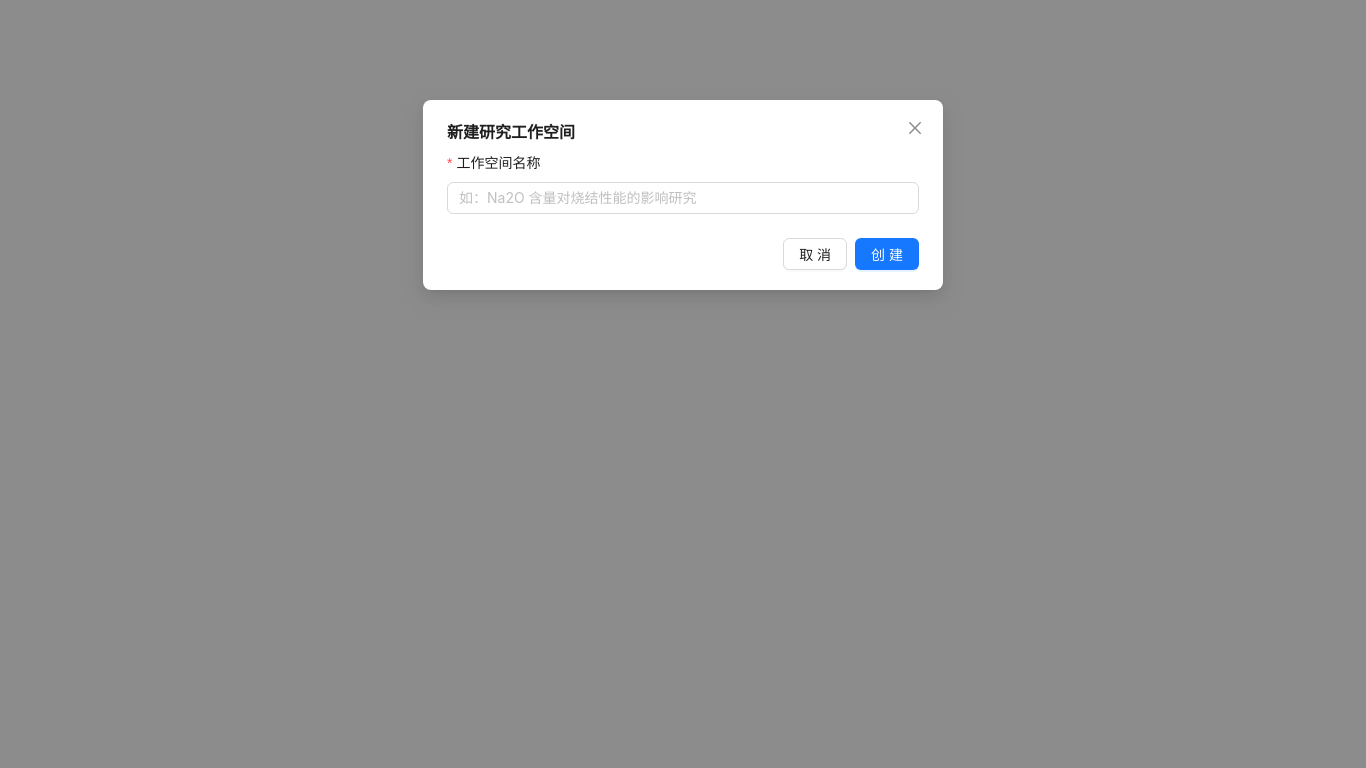
Test: CreateWorkspaceModal › shows validation error when creating without filling name
Ant Design 对两个汉字的按钮文本自动插入空格："创建" → "创 建"
What coordinates should you click on to do the following:
click the button "创 建"
I would click on:
 (887, 254)
Its box is [855,238,919,270].
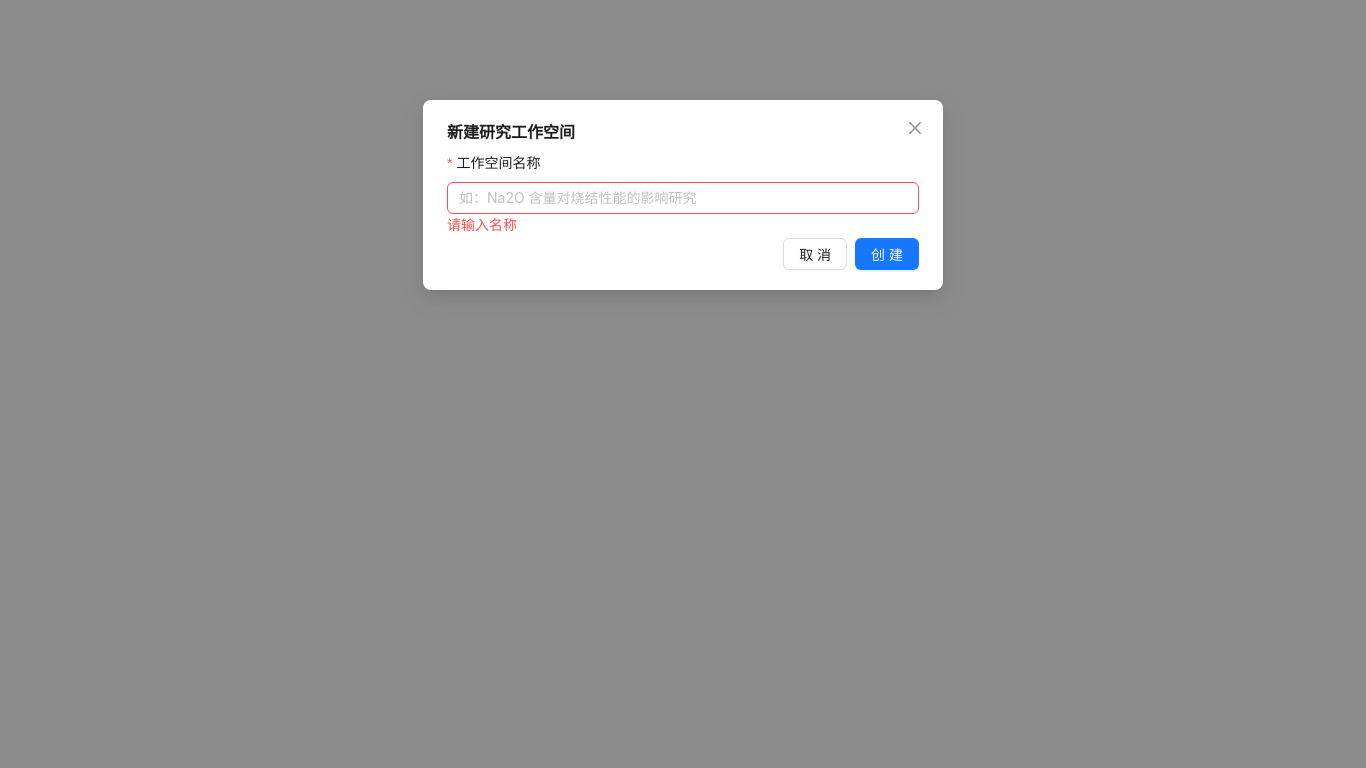
Check: the text "请输入名称" is shown, box [447,216,517,233]
